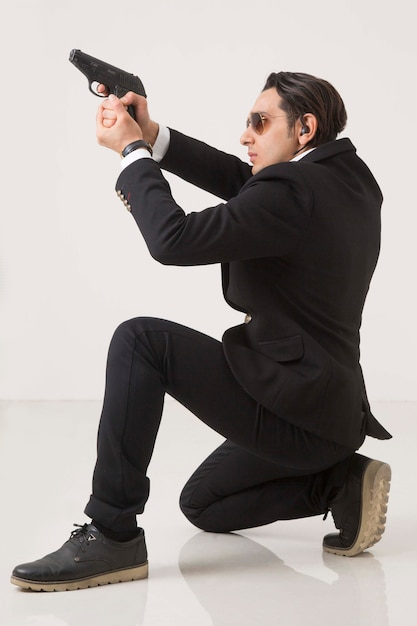gun: (67, 48, 150, 126)
